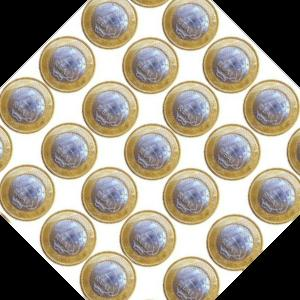1 real: (203, 30, 259, 94), (82, 76, 137, 140), (244, 73, 299, 137), (79, 167, 142, 222), (0, 161, 54, 225), (161, 80, 222, 136), (40, 206, 95, 266), (123, 35, 178, 95), (39, 37, 95, 95), (41, 120, 98, 176), (206, 124, 262, 180), (125, 125, 180, 182), (163, 0, 218, 55), (165, 169, 217, 227), (207, 220, 265, 271), (80, 0, 139, 49), (250, 168, 300, 225), (123, 213, 175, 266), (2, 77, 52, 132), (82, 249, 132, 300), (164, 261, 221, 300)
